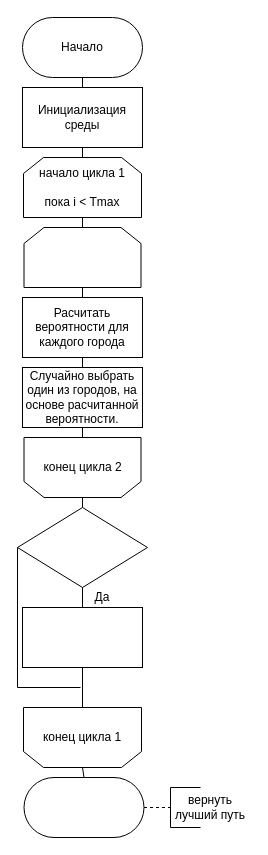
This 268x855 diagram has some shape labels left out. The centre of each missing label's shape, as x and y in pixels:
"Конец" belongs at pixel 83 807.
"Лучший путь = найденый путь" belongs at pixel 82 637.
"начало цикла 2 пока не пройдены все города" belongs at pixel 82 257.
"новый путь лучше старого лучшего?" belongs at pixel 82 547.
